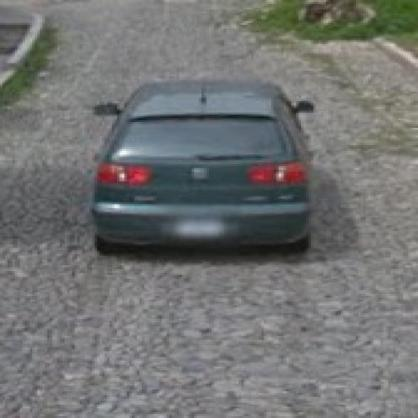car: (88, 81, 317, 261)
